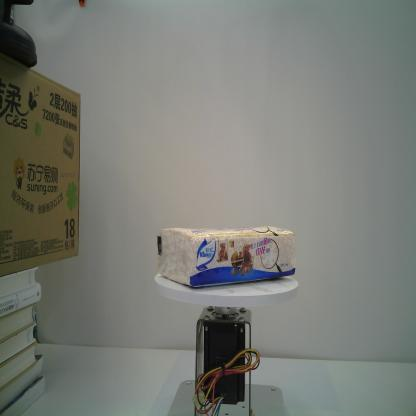Tissue: (154, 224, 298, 290)
